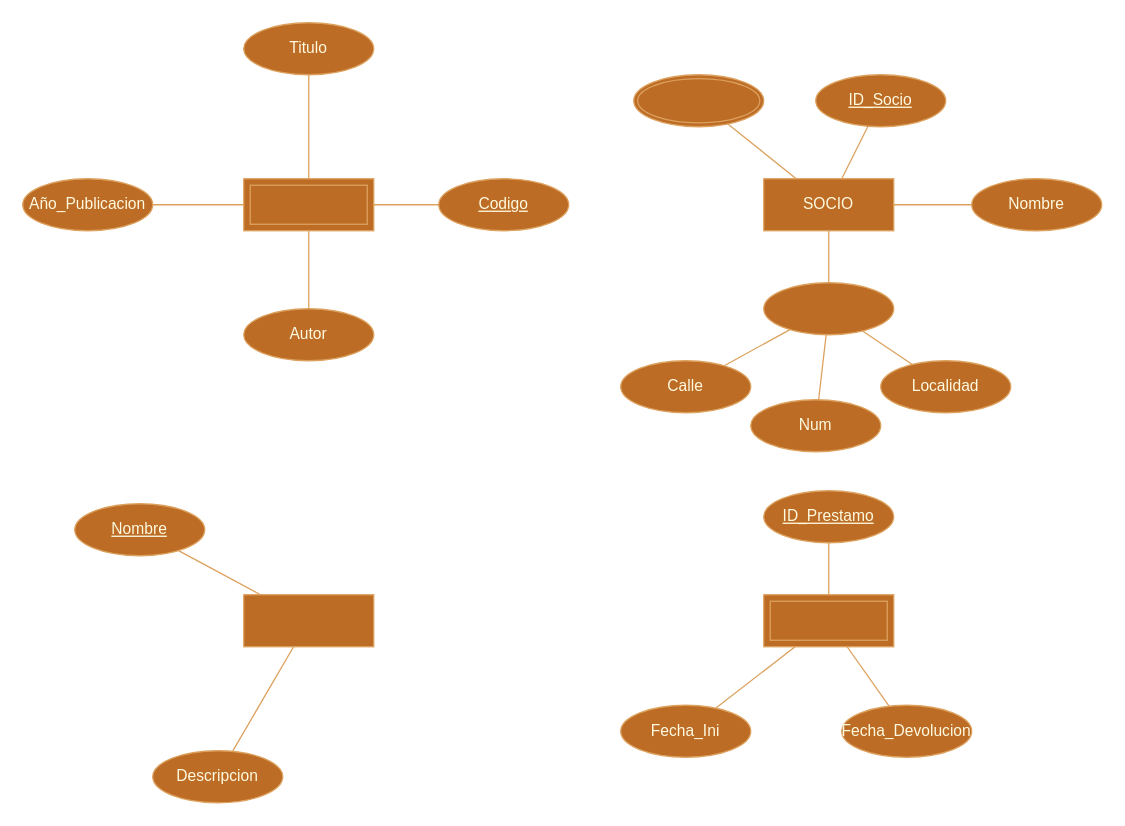
The diagram is 1125 pixels wide and 826 high, and some of its shapes have lost their labels. Each missing label, with the centre of its shape:
"CATEGORIA" belongs at point 308,620.
"Direccion" belongs at point 828,308.
"LIBRO" belongs at point 308,204.
"PRESTAMO" belongs at point 828,620.
"Telefono" belongs at point 698,100.
